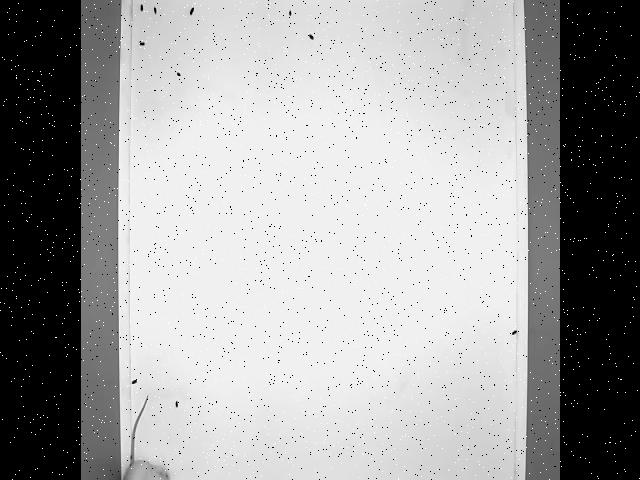Tikus: (121, 396, 167, 480)
